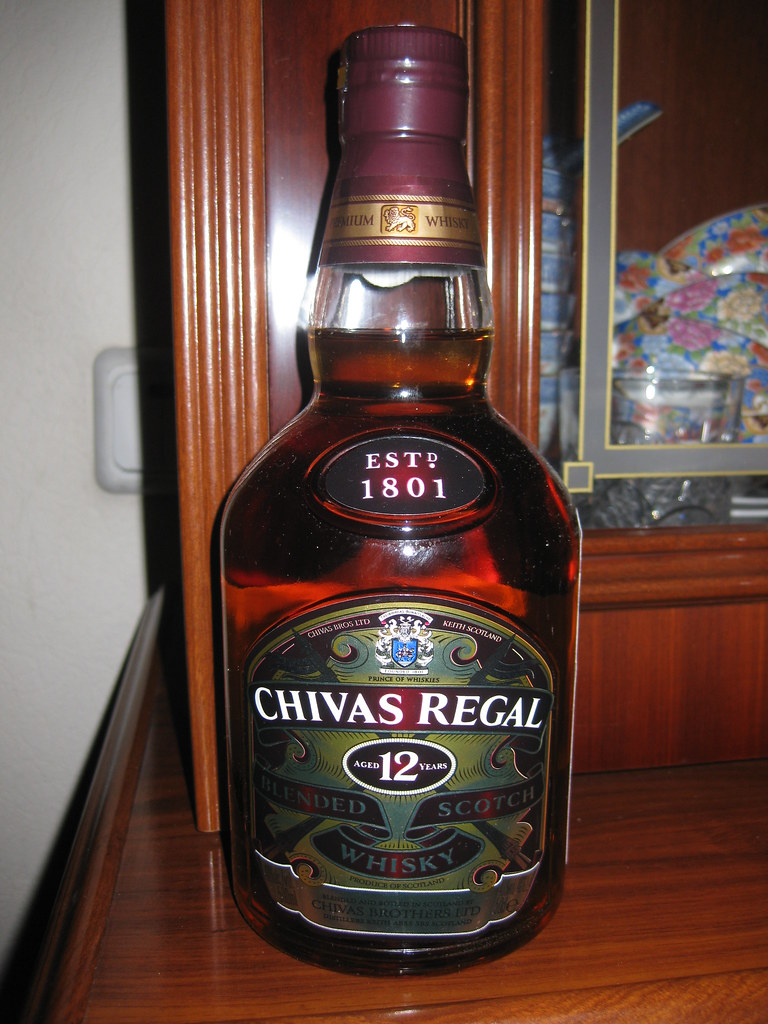Chivas Regal: (189, 9, 605, 994)
